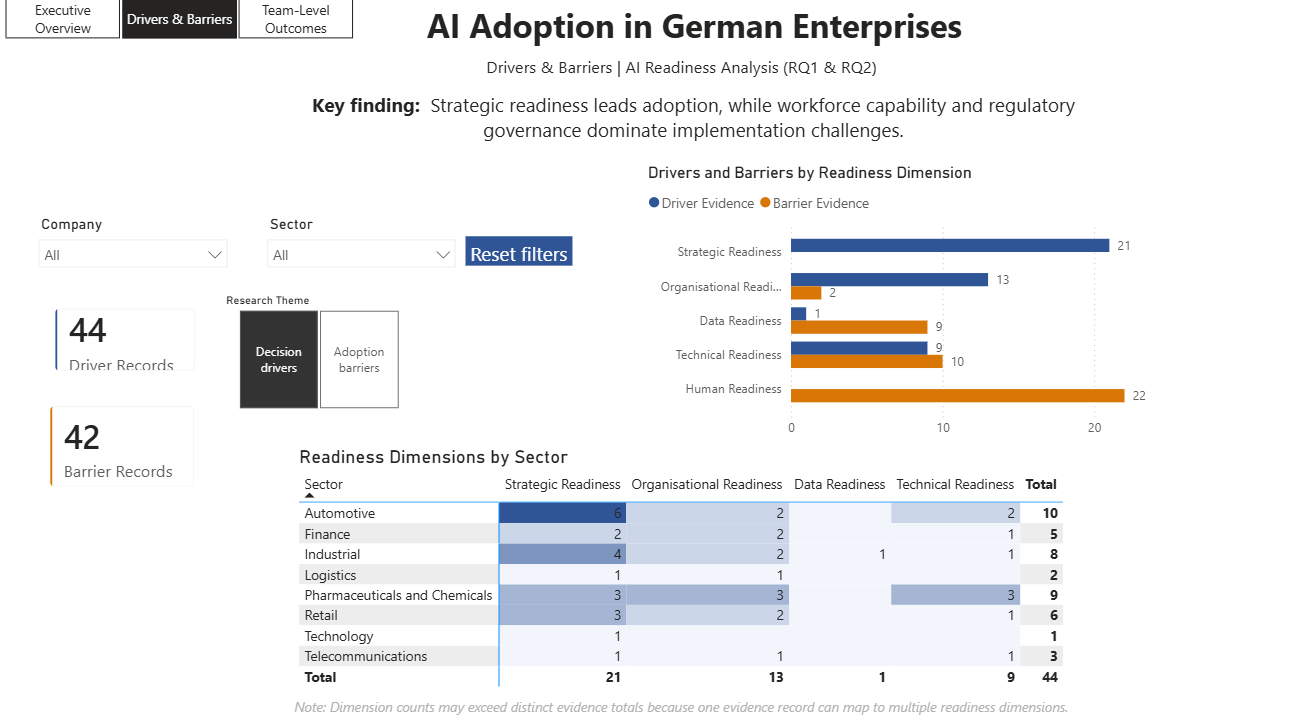

Layout of this report page (visuals, bound fields, positions):
{"tool":"powerbi","page":{"name":"Drivers & Barriers","canvas":[1280,720],"ordinal":1},"visuals":[{"type":"textbox","box":[388.4,7.2,584.6,56.2],"z":0},{"type":"textbox","box":[423.1,58.2,491.1,36],"z":1000},{"type":"slicer","fields":{"Values":["DimSector.SectorName"]},"box":[253.1,215.8,204.7,76.5],"z":2000},{"type":"slicer","fields":{"Values":["DimCompany.CompanyName"]},"box":[28.8,215.8,205.3,78.5],"z":3000},{"type":"textbox","box":[279.2,94.2,803.1,60.8],"z":4000},{"type":"actionButton","box":[457.8,240.7,104.6,28.8],"z":5000},{"type":"cardVisual","fields":{"Data":["FactEvidence.Driver Evidence"]},"box":[39.2,294.3,171.3,95.5],"z":6000},{"type":"cardVisual","fields":{"Data":["FactEvidence.Barrier Evidence"]},"box":[34.7,389.8,175.9,113.1],"z":7000},{"type":"clusteredBarChart","title":"Drivers and Barriers by Readiness Dimension","fields":{"Category":["DimFramework.FrameworkDimension"],"Y":["FactEvidence.Driver Evidence","FactEvidence.Barrier Evidence"]},"box":[631.1,170,527.7,276.6],"z":8000},{"type":"slicer","fields":{"Values":["DimResearchQuestion.AnalysisTheme"]},"box":[210.6,292.3,205.3,123.6],"z":9000},{"type":"pivotTable","title":"Readiness Dimensions by Sector","fields":{"Rows":["DimSector.SectorName"],"Columns":["DimFramework.FrameworkDimension"],"Values":["FactEvidence.Evidence Records"]},"box":[289.7,446.6,771.7,242.6],"z":10000},{"type":"textbox","box":[285.1,687.3,767.7,32.7],"z":11000},{"type":"pageNavigator","box":[7.1,7.1,340,40.8],"z":11001}]}

Visuals, with their boxes in screenshot pixels (x1, y1, x2, y2), scaled from the page's 1280x720 canvas onto the 1306x719 screenshot:
textbox: select_region(396, 7, 993, 63)
textbox: select_region(432, 58, 933, 94)
slicer - DimSector.SectorName: select_region(258, 216, 467, 292)
slicer - DimCompany.CompanyName: select_region(29, 216, 239, 294)
textbox: select_region(285, 94, 1104, 155)
actionButton: select_region(467, 240, 574, 269)
cardVisual - FactEvidence.Driver Evidence: select_region(40, 294, 215, 389)
cardVisual - FactEvidence.Barrier Evidence: select_region(35, 389, 215, 502)
"Drivers and Barriers by Readiness Dimension" clusteredBarChart: select_region(644, 170, 1182, 446)
slicer - DimResearchQuestion.AnalysisTheme: select_region(215, 292, 424, 415)
"Readiness Dimensions by Sector" pivotTable: select_region(296, 446, 1083, 688)
textbox: select_region(291, 686, 1074, 718)
pageNavigator: select_region(7, 7, 354, 48)
